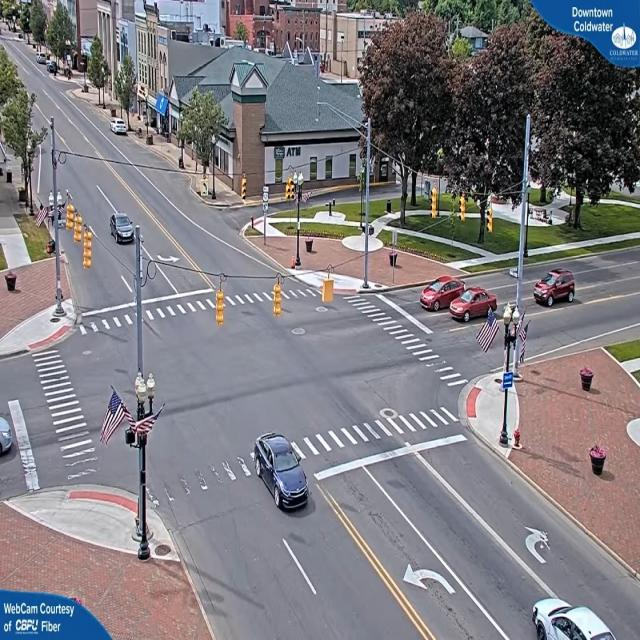car: (528, 600, 636, 640), (254, 433, 310, 509), (448, 284, 495, 323), (422, 278, 462, 320), (534, 268, 577, 306), (111, 213, 137, 244), (0, 413, 14, 458), (111, 119, 129, 136)
